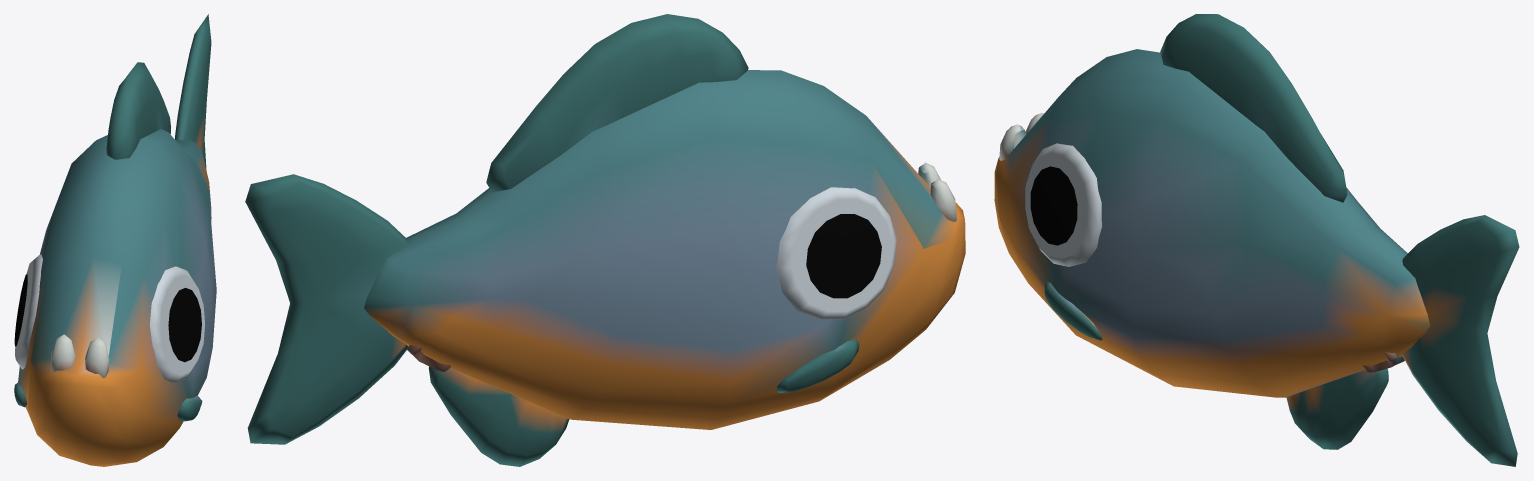
File: Piranha.glb
3 renders of one model, left to right at view 1: azimuth 30°, elevation 25°; view 2: azimuth 150°, elevation 25°; view 3: azimuth 270°, elevation 25°, orthographic. The views are drawn at different scales.
Parts seen in each view (by area): view 1: 124; view 2: 124; view 3: 124.
Boxes of the visible parts, x1,y1,x2,y2 form: 124: (14, 14, 216, 466); 124: (245, 14, 965, 466); 124: (994, 14, 1519, 466).
Size of the model in its own units: 0.4952 by 0.4519 by 0.5442.
